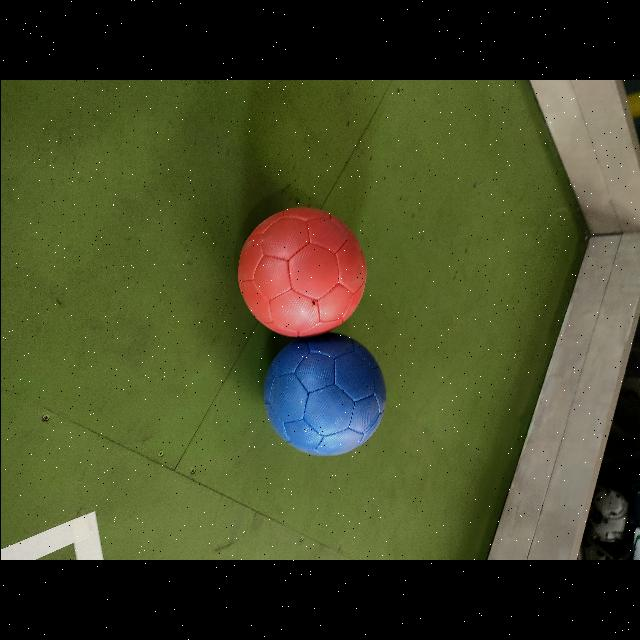B: (263, 333, 384, 456)
R: (237, 208, 365, 337)
